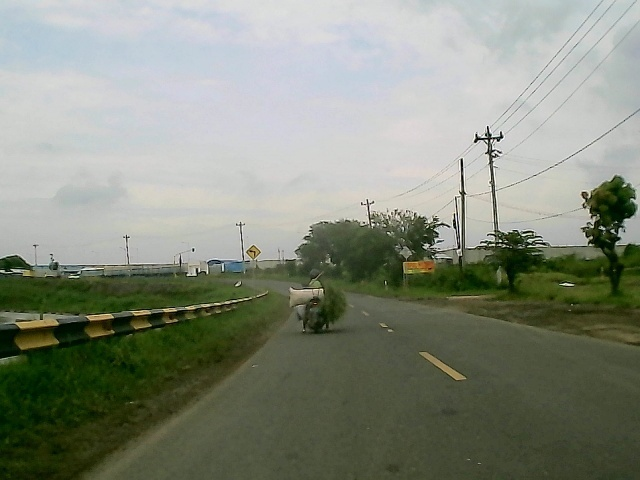Tikungan tajam ke kiri: (243, 244, 264, 262)
